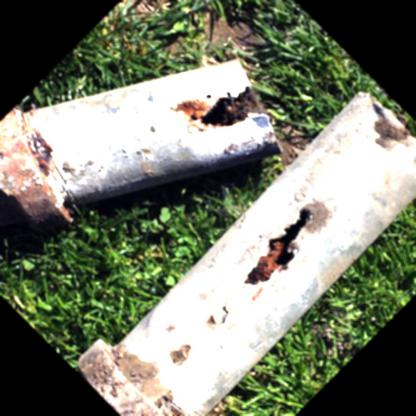burst: (243, 212, 328, 298), (195, 82, 273, 145)
